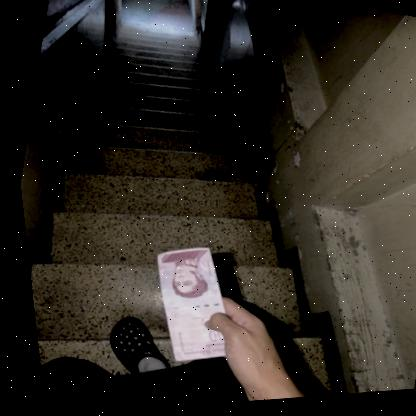vef_front: (122, 235, 244, 377)
